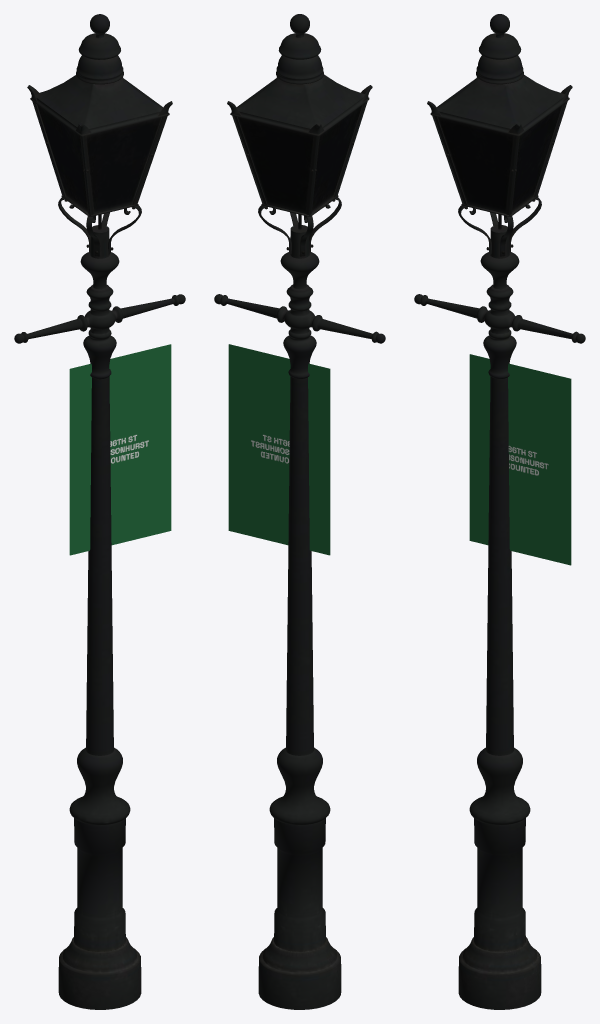
File: nyb_chase_lamp.glb
The picture shows the model from 3 angles, left to right: view 1: azimuth 30°, elevation 25°; view 2: azimuth 150°, elevation 25°; view 3: azimuth 330°, elevation 25°; orthographic projection.
Visible parts, largest first — view 1: street_lamp_01, add_lbl_7228161784.png; view 2: street_lamp_01, add_lbl_7228161784.png; view 3: street_lamp_01, add_lbl_7228161784.png.
Part boxes in pixels (<box>): street_lamp_01: <box>14,14,185,1009</box>; add_lbl_7228161784.png: <box>69,344,171,555</box>; street_lamp_01: <box>214,14,385,1009</box>; add_lbl_7228161784.png: <box>228,344,330,555</box>; street_lamp_01: <box>414,14,585,1009</box>; add_lbl_7228161784.png: <box>469,354,571,565</box>.
Size of the model in its own units: 0.7043 by 3.87 by 0.3865.
Materials: 4 (4 with a texture image).
